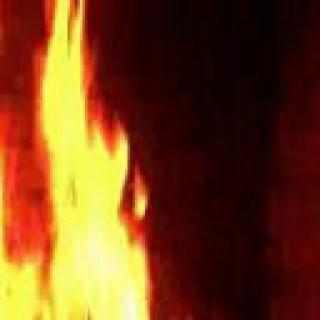fire: (0, 41, 177, 320)
